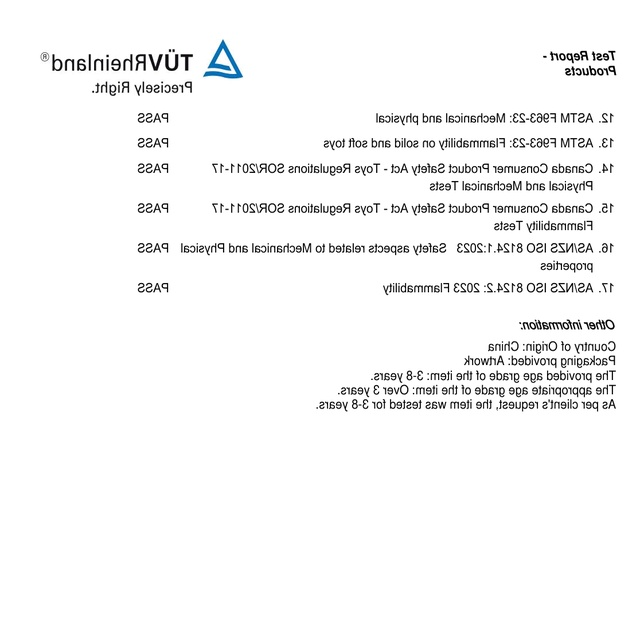tuv_rheinland: (37, 38, 244, 83)
